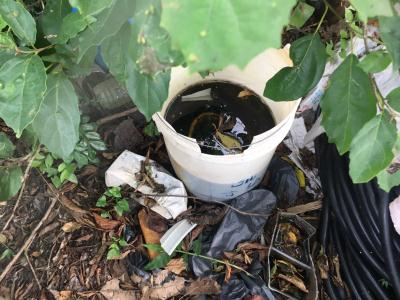bucket: (150, 46, 301, 201)
plastic_bag: (189, 190, 270, 271), (103, 149, 188, 220)
